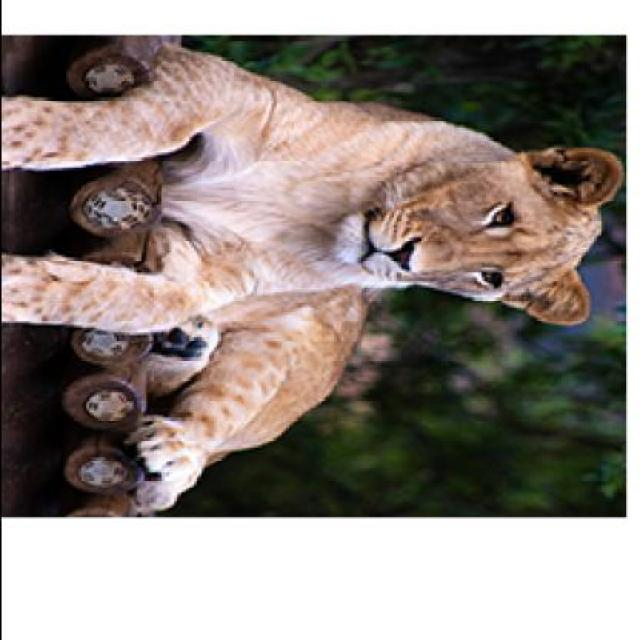Lion: (3, 23, 631, 540)
